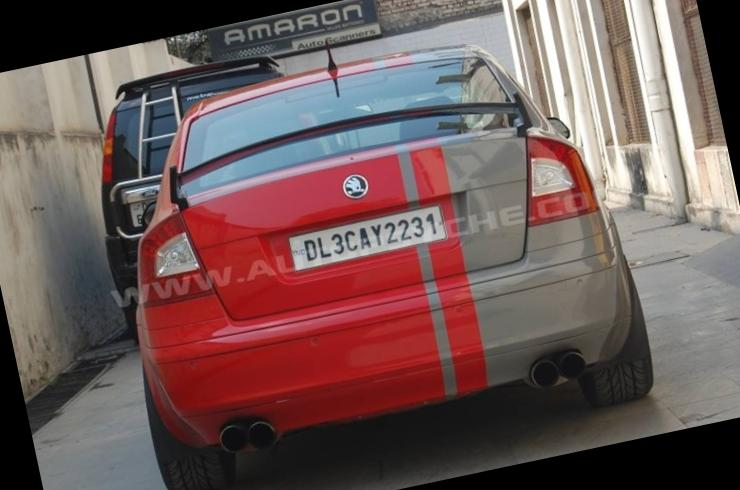plate: (288, 195, 455, 279)
